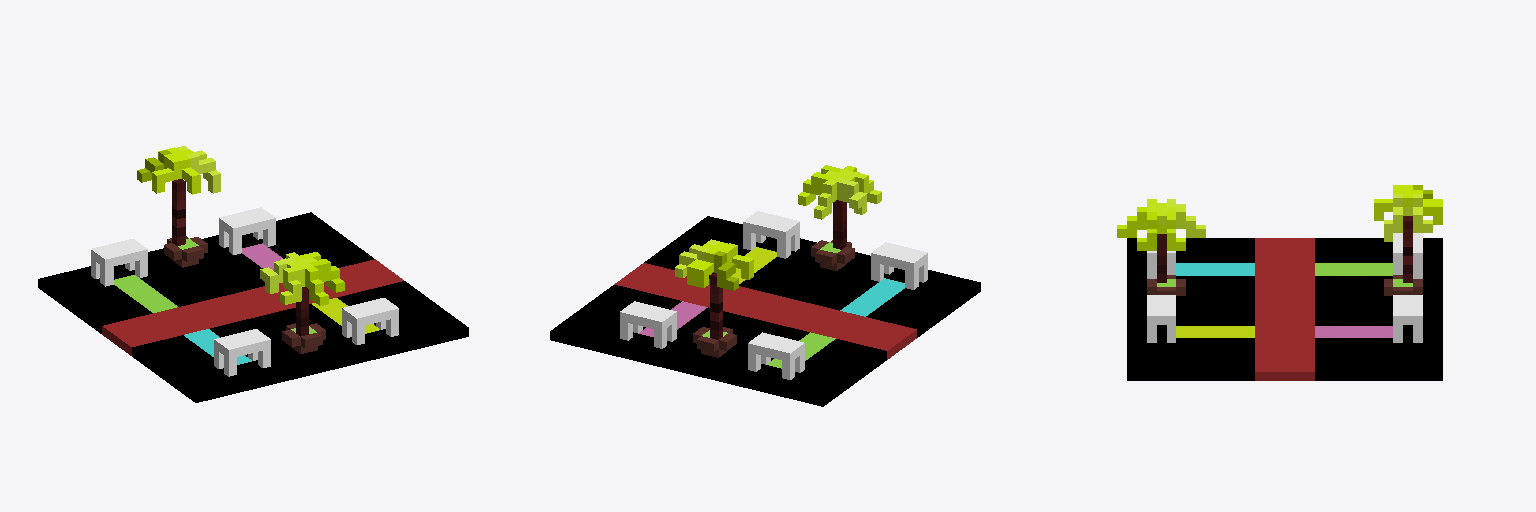
3 views of the same model, side by side, from view 1: azimuth 30°, elevation 25°; view 2: azimuth 150°, elevation 25°; view 3: azimuth 270°, elevation 25° (orthographic).
Parts seen in each view (by area): view 1: object 1; view 2: object 1; view 3: object 1.
Part boxes in pixels (x1,y1,x2,y2): object 1: (38, 146, 468, 402); object 1: (550, 165, 980, 406); object 1: (1117, 185, 1442, 380).
Bounding box in the file's own units: 3.2 × 1.3 × 3.3.
1 materials, 1 textured.